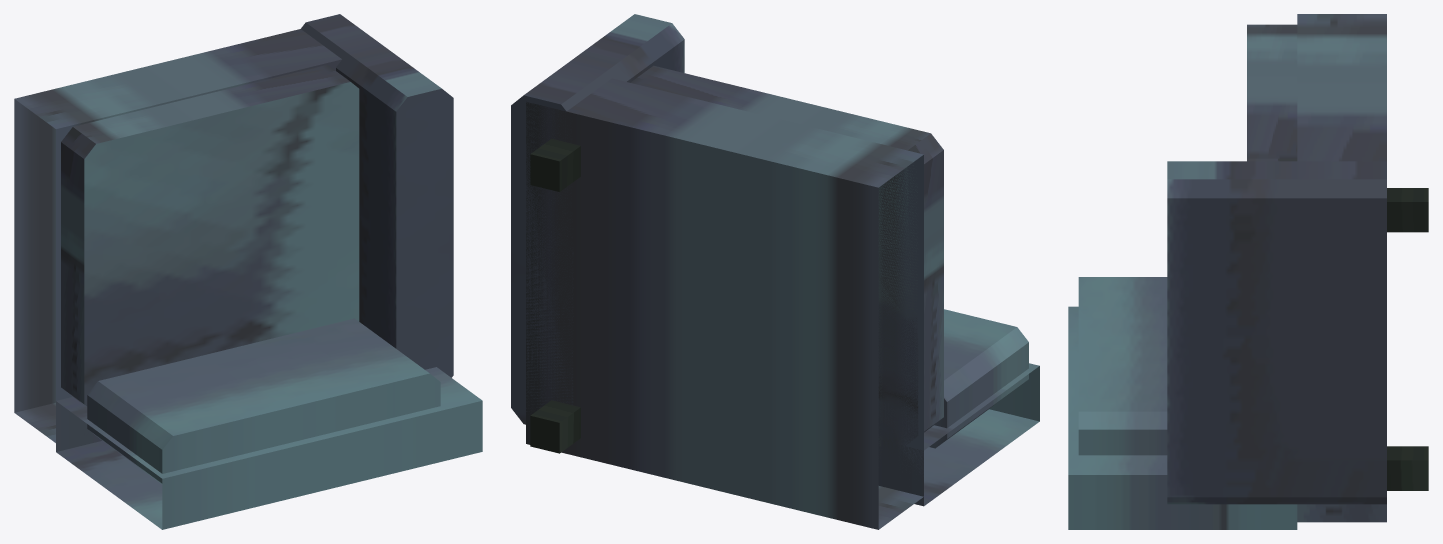
Rendered from pz_sofa_seating_indoor_03_blue_comfy_1_0.obj.
The picture shows the model from 3 angles, left to right: view 1: azimuth 30°, elevation 25°; view 2: azimuth 150°, elevation 25°; view 3: azimuth 270°, elevation 25°; orthographic projection. The views are drawn at different scales.
Size of the model in its own units: 1 by 0.93 by 0.86.
1 material, 1 textured.
